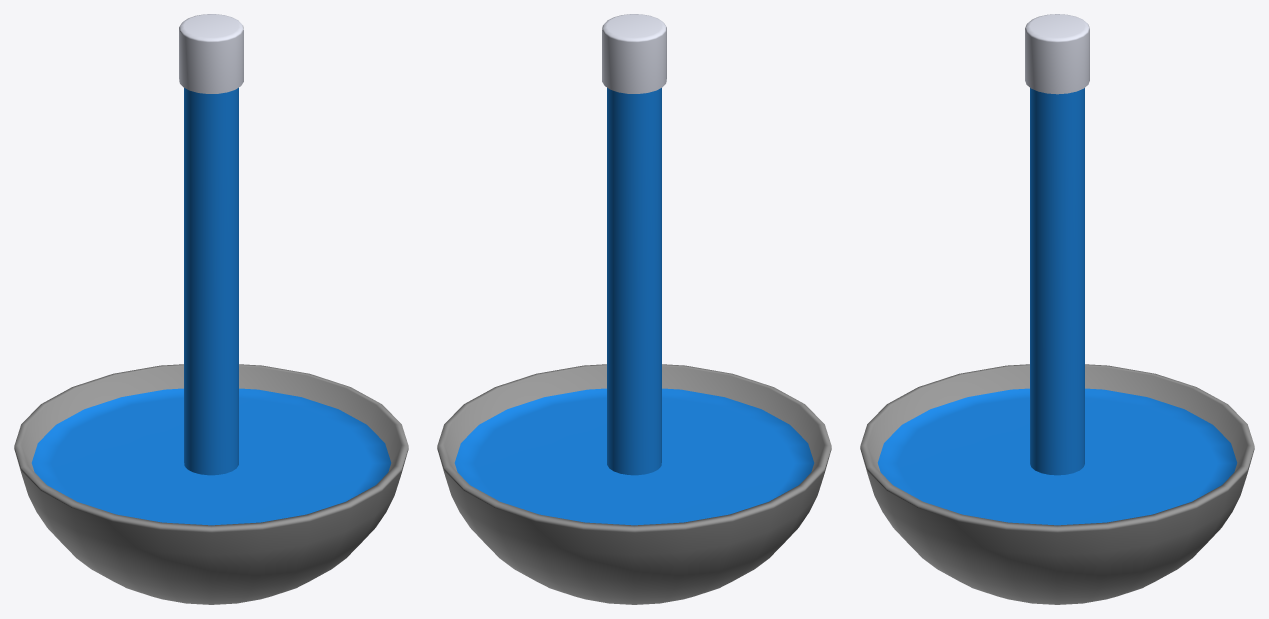
The model's file is Wobble_Goal.fbx.
3 renders of one model, left to right at view 1: azimuth 30°, elevation 25°; view 2: azimuth 150°, elevation 25°; view 3: azimuth 270°, elevation 25°, orthographic.
Visible parts, largest first — view 1: Wobbler_halfsphere2; view 2: Wobbler_halfsphere2; view 3: Wobbler_halfsphere2.
Part boxes in pixels (left/top/right/bottom): Wobbler_halfsphere2: left=14, top=14, right=408, bottom=604; Wobbler_halfsphere2: left=437, top=14, right=831, bottom=604; Wobbler_halfsphere2: left=860, top=14, right=1254, bottom=604.
Bounding box in the file's own units: 0.1984 × 0.3096 × 0.1984.
